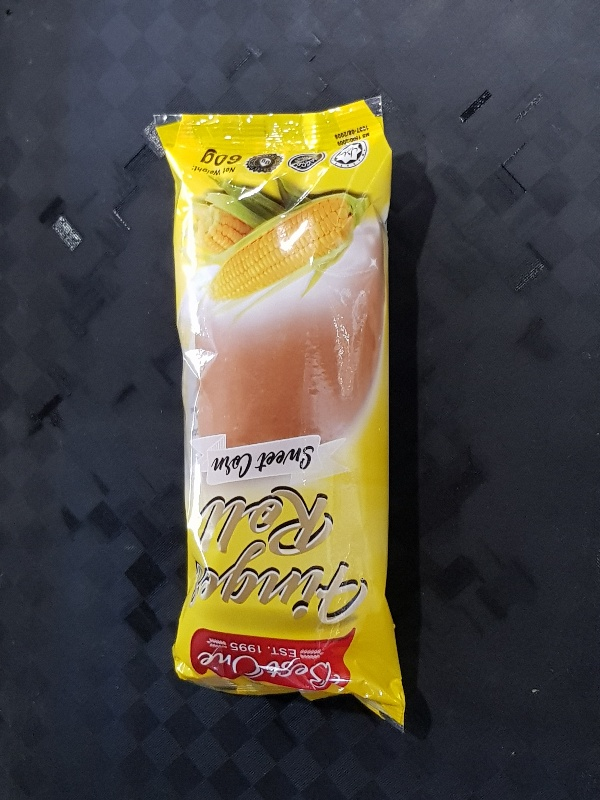Tinges Roll Sweet Corn: (152, 95, 406, 734)
